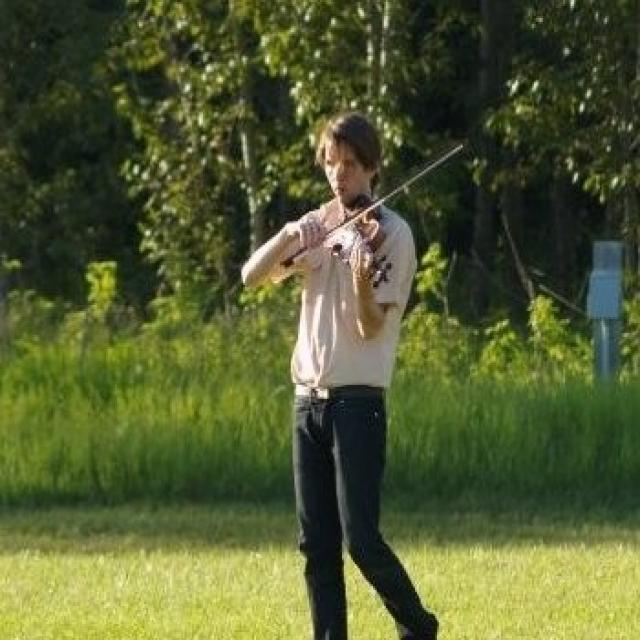violin: (326, 195, 395, 284)
